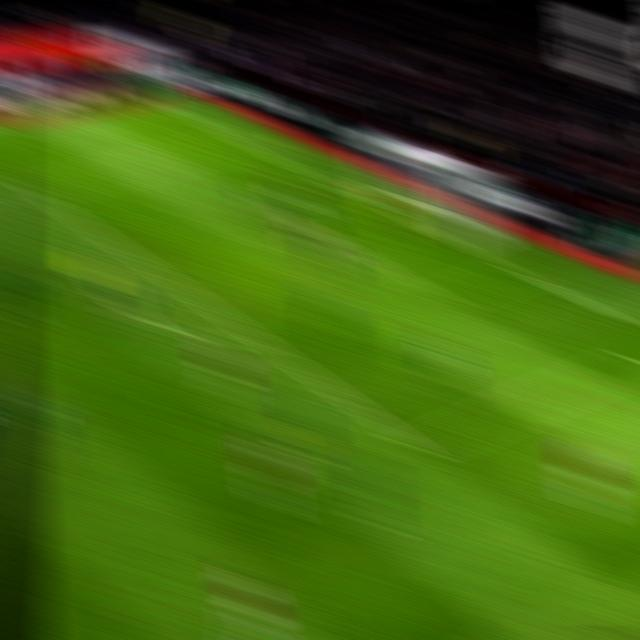bigarea_bottom_inner: (396, 428, 441, 465)
bigarea_top_inner: (14, 173, 54, 204)
bigarea_top_outter: (224, 129, 260, 153)
bottom_arc_area_intersection: (241, 326, 281, 353)
corner: (128, 87, 169, 108)
smallarea_bottom_inner: (425, 278, 469, 313)
smallarea_bottom_outter: (497, 255, 538, 286)
smallarea_top_inner: (247, 191, 284, 215)
smallarea_top_outter: (309, 170, 346, 194)
top_arc_area_intersection: (106, 235, 143, 261)
